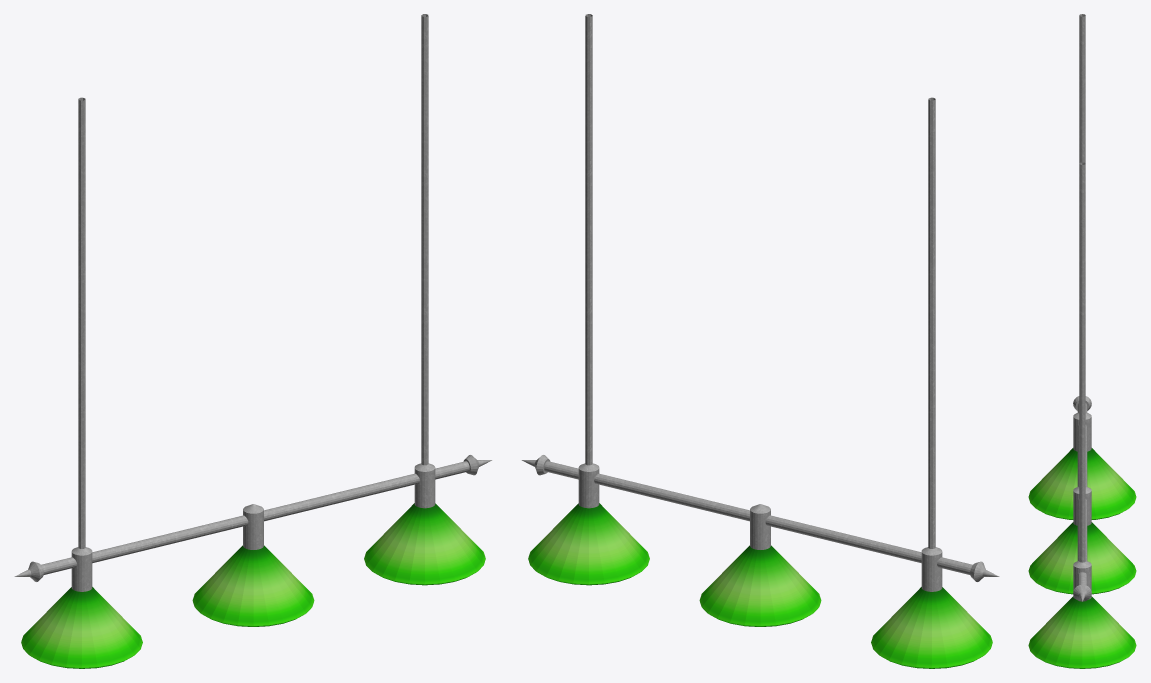
The model's file is TableLight1.fbx.
The picture shows the model from 3 angles, left to right: view 1: azimuth 30°, elevation 25°; view 2: azimuth 150°, elevation 25°; view 3: azimuth 270°, elevation 25°; orthographic projection. The views are drawn at different scales.
Visible parts, largest first — view 1: Empty_Mesh; view 2: Empty_Mesh; view 3: Empty_Mesh.
Part boxes in pixels (x1,y1,x2,y2): Empty_Mesh: [14, 14, 492, 668]; Empty_Mesh: [521, 14, 999, 668]; Empty_Mesh: [1028, 14, 1136, 668].
Size of the model in its own units: 181 by 197 by 40.
